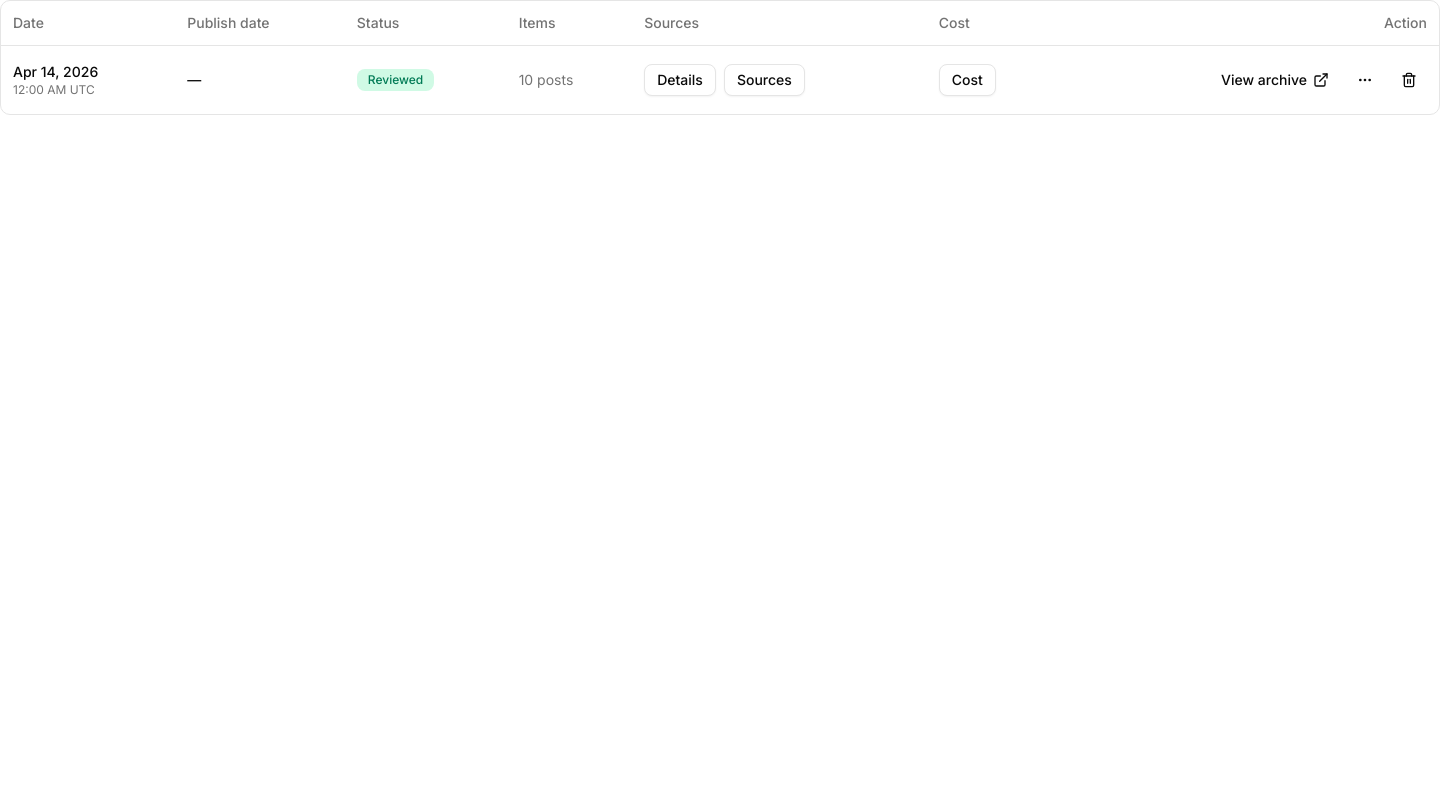
Test: RunsTable delete dialog (REQ-3, REQ-4, REQ-5) › REQ-3: clicking Delete opens dialog with title and description
Click the button named "delete newsletter": [1409, 80] box [1391, 62, 1427, 98]
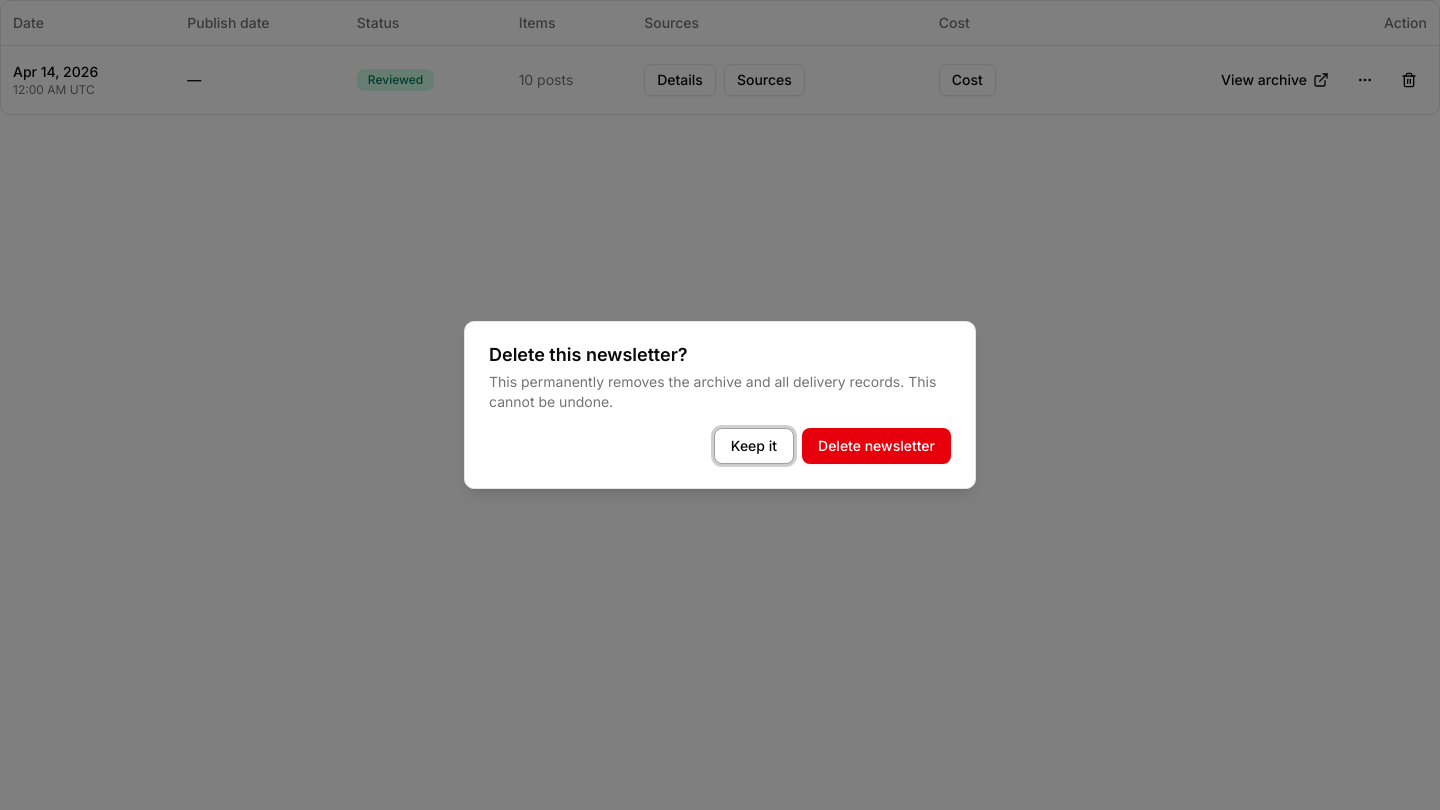
Now the heading "Delete this newsletter?" is shown, box [489, 344, 688, 365]
Now the text "This permanently removes the archive and all delivery records. This cannot be undone." is shown, box [489, 373, 936, 410]
